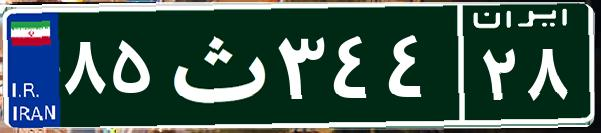2: (475, 38, 525, 113)
3: (273, 28, 330, 110)
4: (385, 28, 445, 110), (330, 28, 385, 110)
5: (110, 28, 158, 105)
8: (57, 26, 110, 107), (525, 38, 570, 115)
ث: (158, 15, 273, 115)
